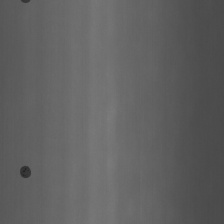oil_spot: (18, 162, 33, 182), (20, 0, 33, 7)
